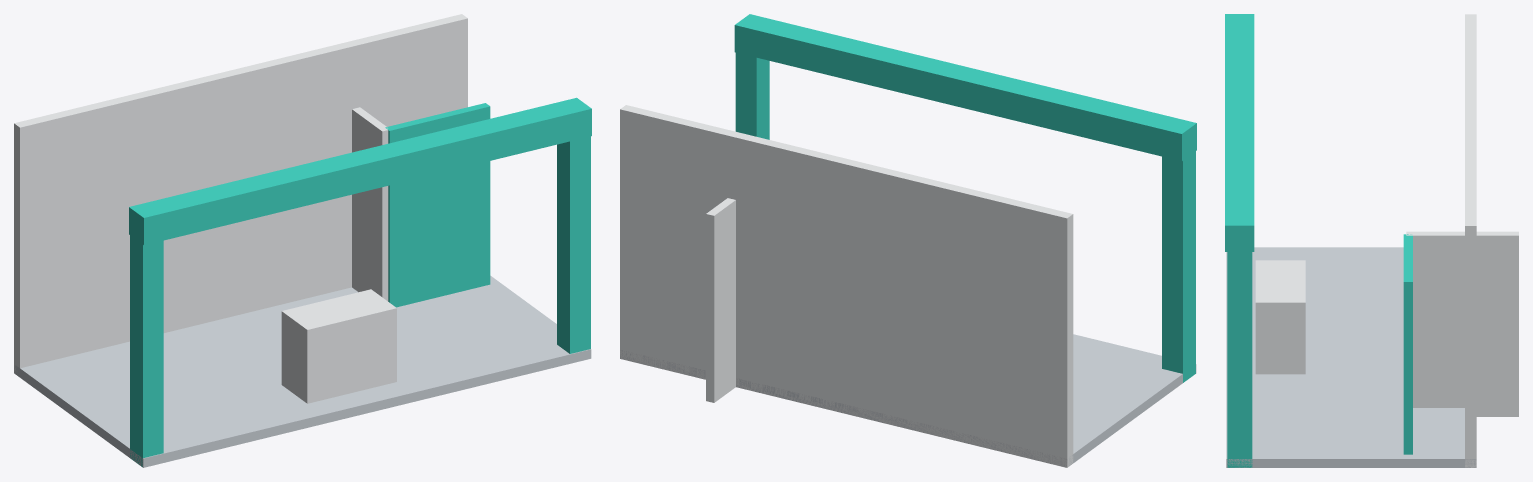
3 views of the same model, side by side, from view 1: azimuth 30°, elevation 25°; view 2: azimuth 150°, elevation 25°; view 3: azimuth 270°, elevation 25° (orthographic). The views are drawn at different scales.
Parts seen in each view (by area): view 1: Exhibition Booth Concept; view 2: Exhibition Booth Concept; view 3: Exhibition Booth Concept.
Boxes of the visible parts, x1,y1,x2,y2 form: Exhibition Booth Concept: [14, 14, 591, 467]; Exhibition Booth Concept: [620, 14, 1196, 467]; Exhibition Booth Concept: [1225, 14, 1518, 467].
Size of the model in its own units: 6 by 3.2 by 3.52.
